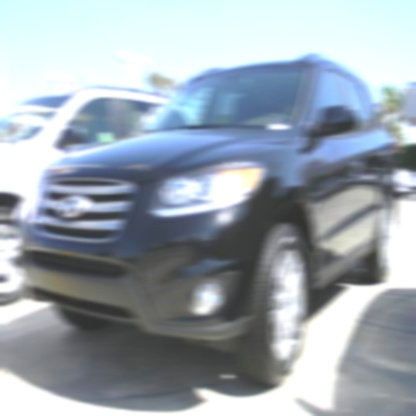Vehicle: (15, 44, 406, 402)
